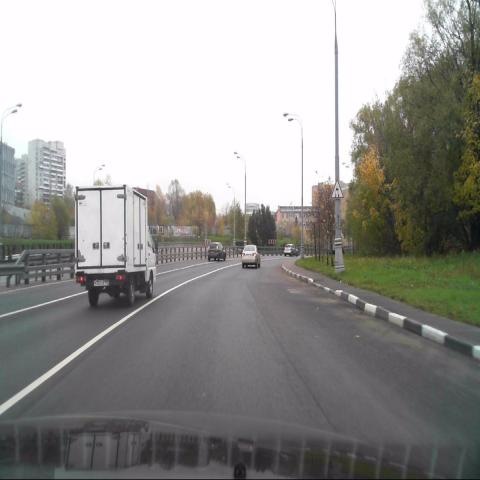1_15: (330, 180, 344, 199)
